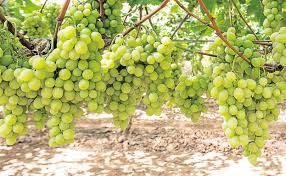Green grapes: (25, 53, 87, 151), (93, 40, 149, 128), (56, 17, 105, 115), (211, 49, 256, 149), (172, 67, 215, 128)
